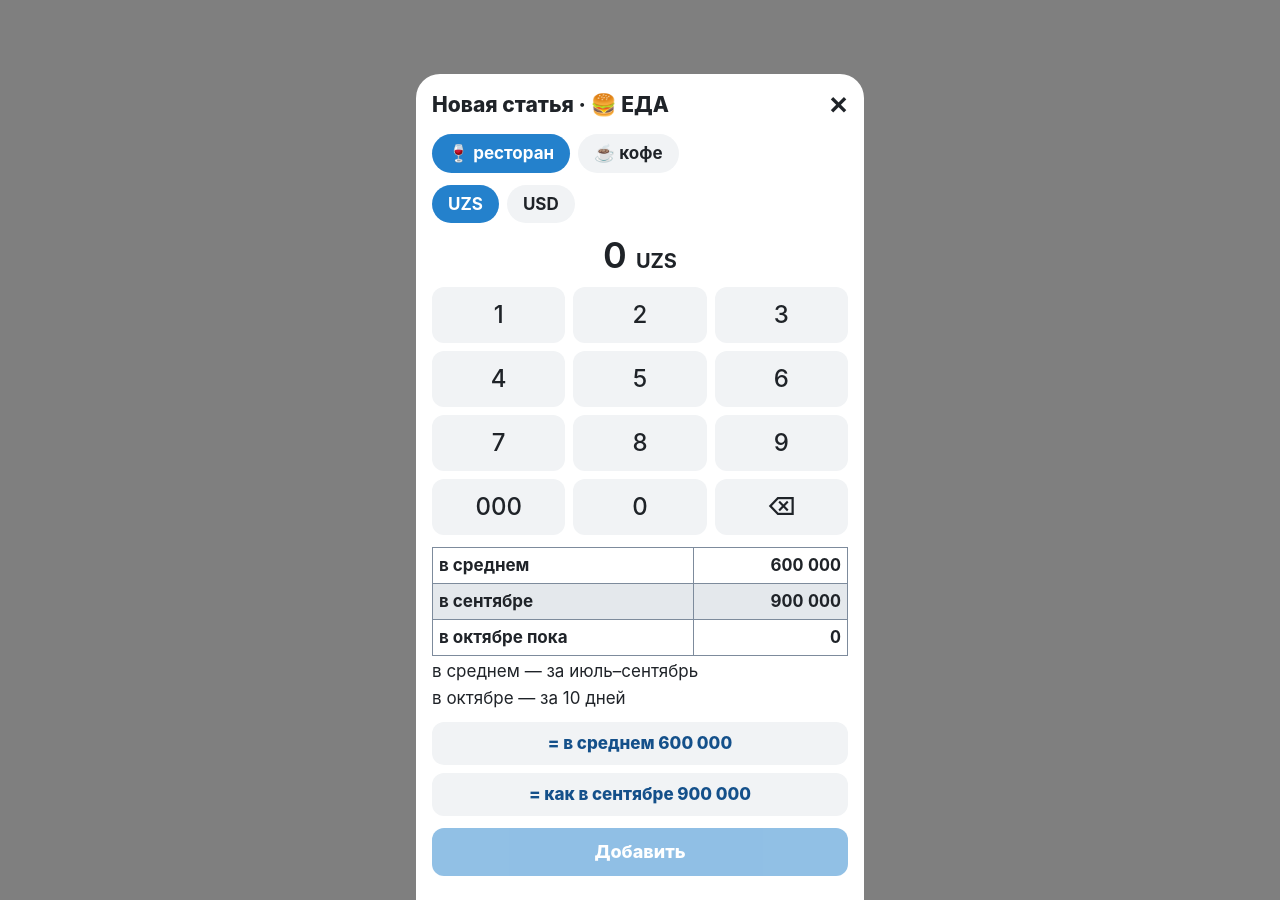
Test: AddArticleSheet › adds nothing until there is a sum
The image size is (1280, 900).
Expected: the button "Добавить" is disabled, x1=432 y1=828 x2=848 y2=876
Click the button "5".
click(640, 379)  # box x1=573 y1=351 x2=707 y2=407
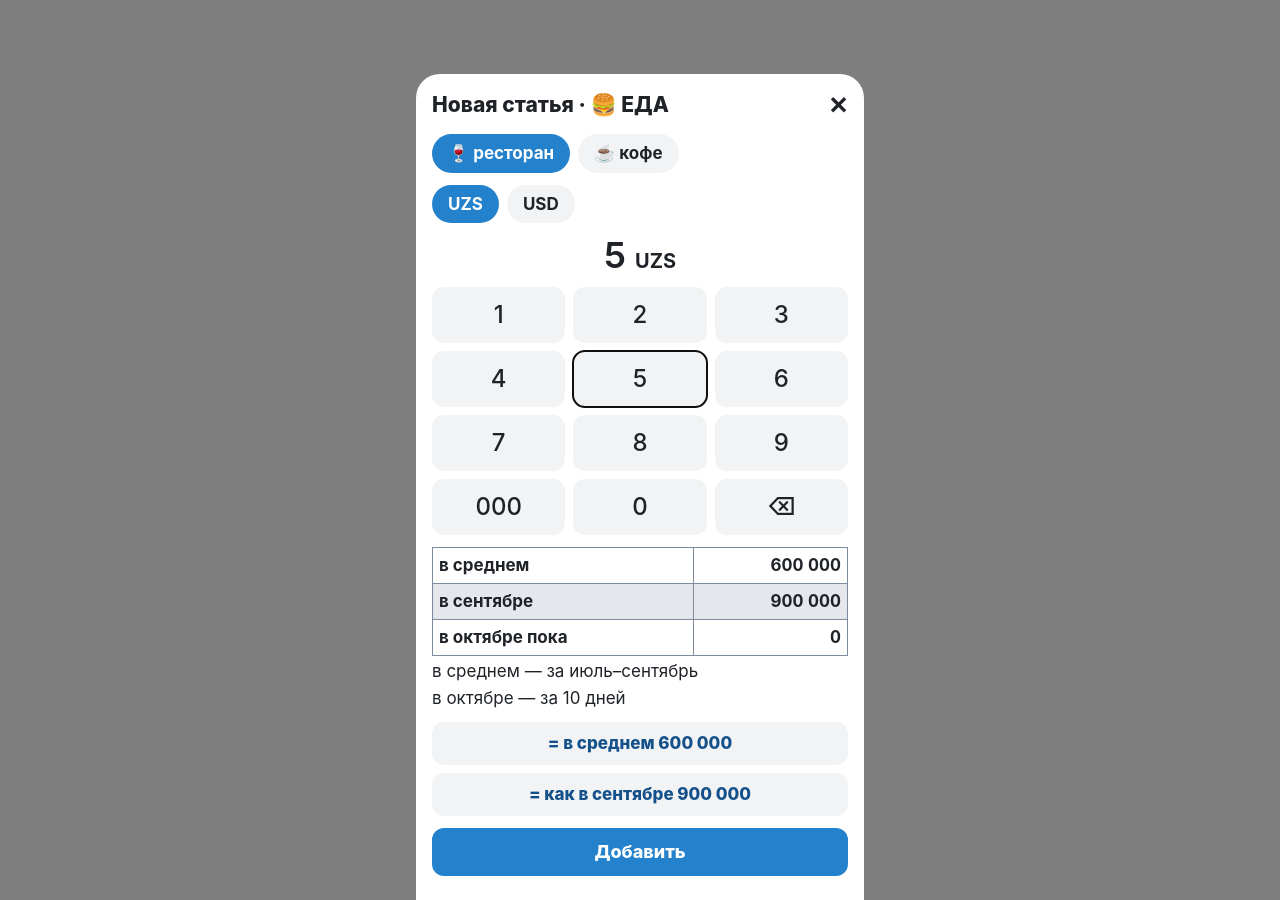
Now the button "Добавить" is enabled, box x1=432 y1=828 x2=848 y2=876
